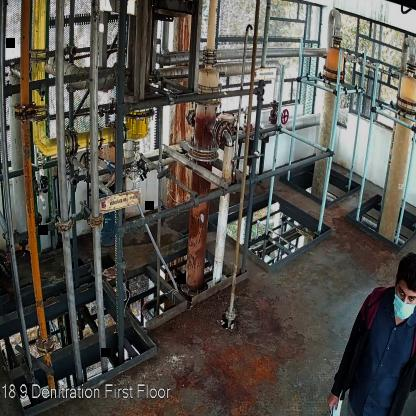no_goggles: (394, 285, 416, 303)
